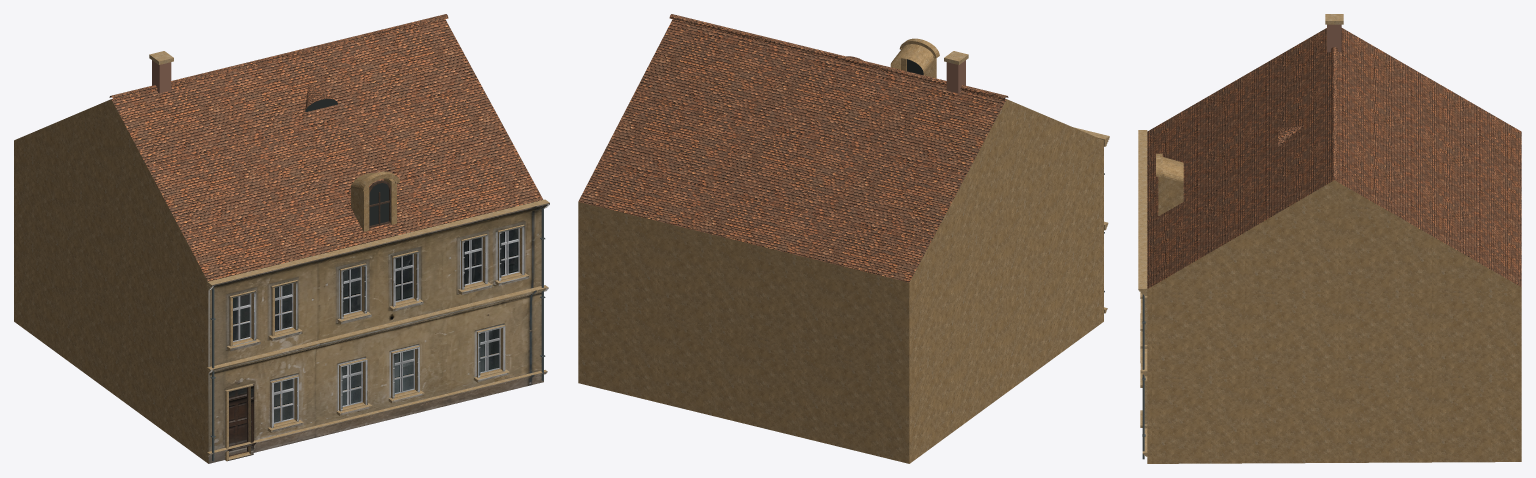
File: cp261_before.glb
3 renders of one model, left to right at view 1: azimuth 30°, elevation 25°; view 2: azimuth 150°, elevation 25°; view 3: azimuth 270°, elevation 25°, orthographic. The views are drawn at different scales.
Parts seen in each view (by area): view 1: CP_261_Roof, CP_261_Masonry_With_Openings, CP_261_Frames_Sills_And_Cornices, CP_261_Individual_Photographic_Panes, CP_261_Timber_Frames, CP_261_Roof_Dormers, CP_261_Metal_Gutters_And_Downpipes, CP_261_Glazing_And_Doors, CP_261_Chimney, CP_261_Dormer_Glass; view 2: CP_261_Masonry_With_Openings, CP_261_Roof, CP_261_Roof_Dormers, CP_261_Chimney; view 3: CP_261_Roof, CP_261_Masonry_With_Openings, CP_261_Frames_Sills_And_Cornices, CP_261_Roof_Dormers, CP_261_Chimney, CP_261_Metal_Gutters_And_Downpipes.
Boxes of the visible parts, bbox=[...] form: CP_261_Roof: bbox=[14, 14, 543, 281]; CP_261_Masonry_With_Openings: bbox=[14, 140, 543, 463]; CP_261_Frames_Sills_And_Cornices: bbox=[207, 199, 549, 461]; CP_261_Individual_Photographic_Panes: bbox=[233, 228, 517, 422]; CP_261_Timber_Frames: bbox=[229, 228, 519, 456]; CP_261_Roof_Dormers: bbox=[351, 171, 399, 231]; CP_261_Metal_Gutters_And_Downpipes: bbox=[210, 205, 547, 461]; CP_261_Glazing_And_Doors: bbox=[229, 387, 246, 455]; CP_261_Chimney: bbox=[149, 51, 173, 93]; CP_261_Dormer_Glass: bbox=[369, 183, 388, 225]; CP_261_Masonry_With_Openings: bbox=[578, 140, 1103, 463]; CP_261_Roof: bbox=[578, 14, 1103, 282]; CP_261_Roof_Dormers: bbox=[890, 38, 939, 78]; CP_261_Chimney: bbox=[944, 51, 968, 93]; CP_261_Roof: bbox=[1147, 28, 1521, 289]; CP_261_Masonry_With_Openings: bbox=[1147, 287, 1521, 463]; CP_261_Frames_Sills_And_Cornices: bbox=[1138, 130, 1147, 456]; CP_261_Roof_Dormers: bbox=[1156, 153, 1183, 215]; CP_261_Chimney: bbox=[1325, 14, 1343, 52]; CP_261_Metal_Gutters_And_Downpipes: bbox=[1142, 293, 1145, 459].
Bounding box in the file's own units: 13.85 × 12.72 × 14.13.
Materials: 10 (7 with a texture image).
